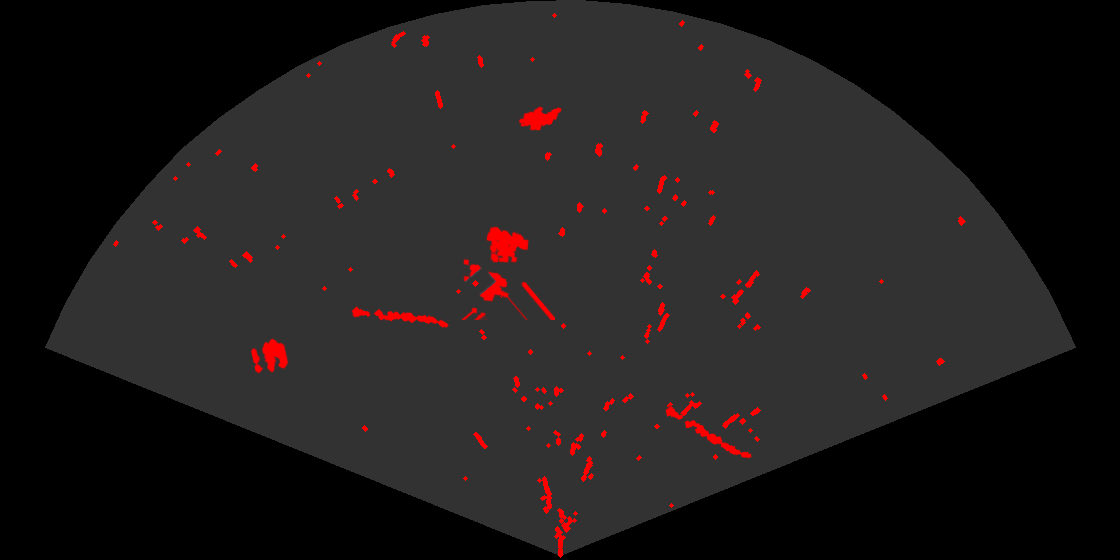AUV: (517, 105, 563, 132)
ball: (249, 337, 290, 375)
cage: (460, 225, 555, 320)
chain: (664, 405, 753, 460), (350, 305, 450, 329)
